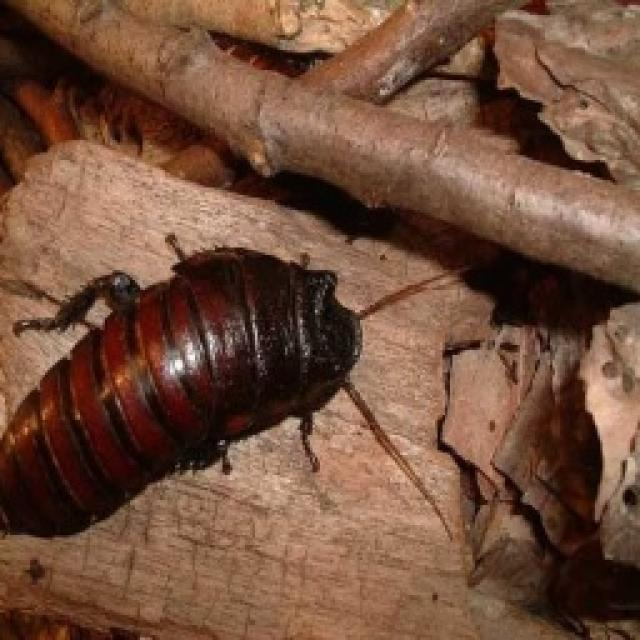cockroach: (2, 230, 464, 550)
